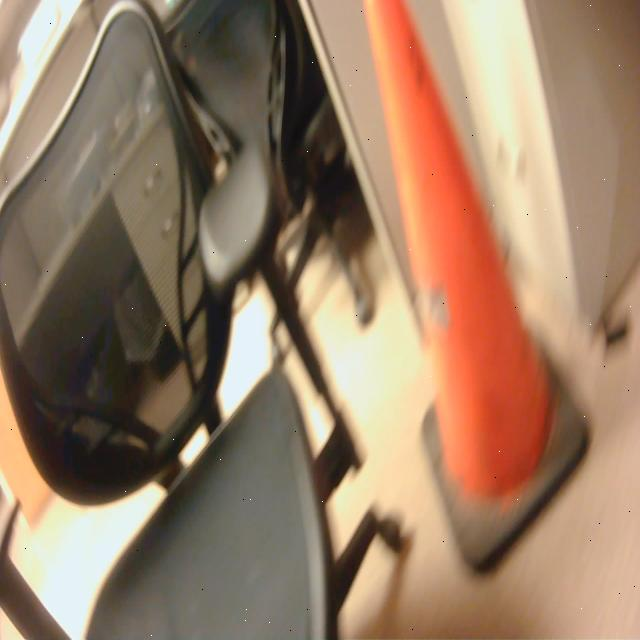traffic cone: (360, 1, 600, 586)
